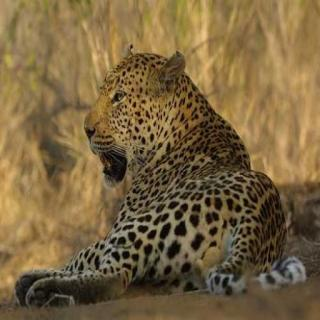Leopard: (15, 39, 312, 307)
